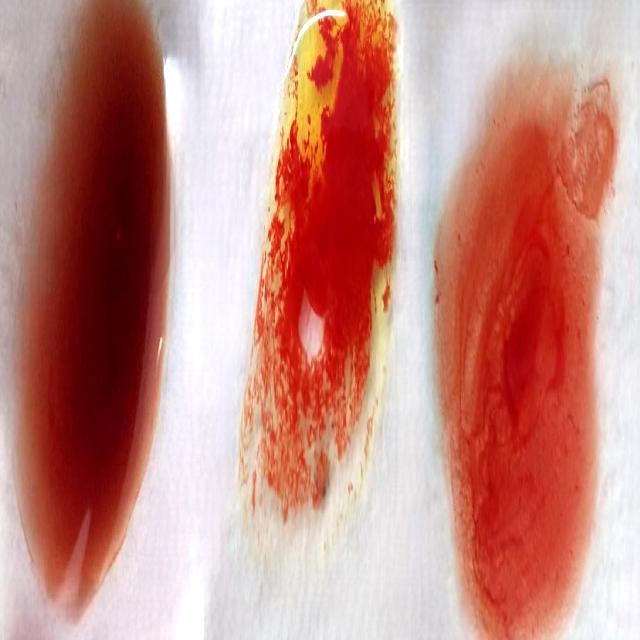B: (266, 15, 391, 593)
D: (448, 67, 598, 640)
